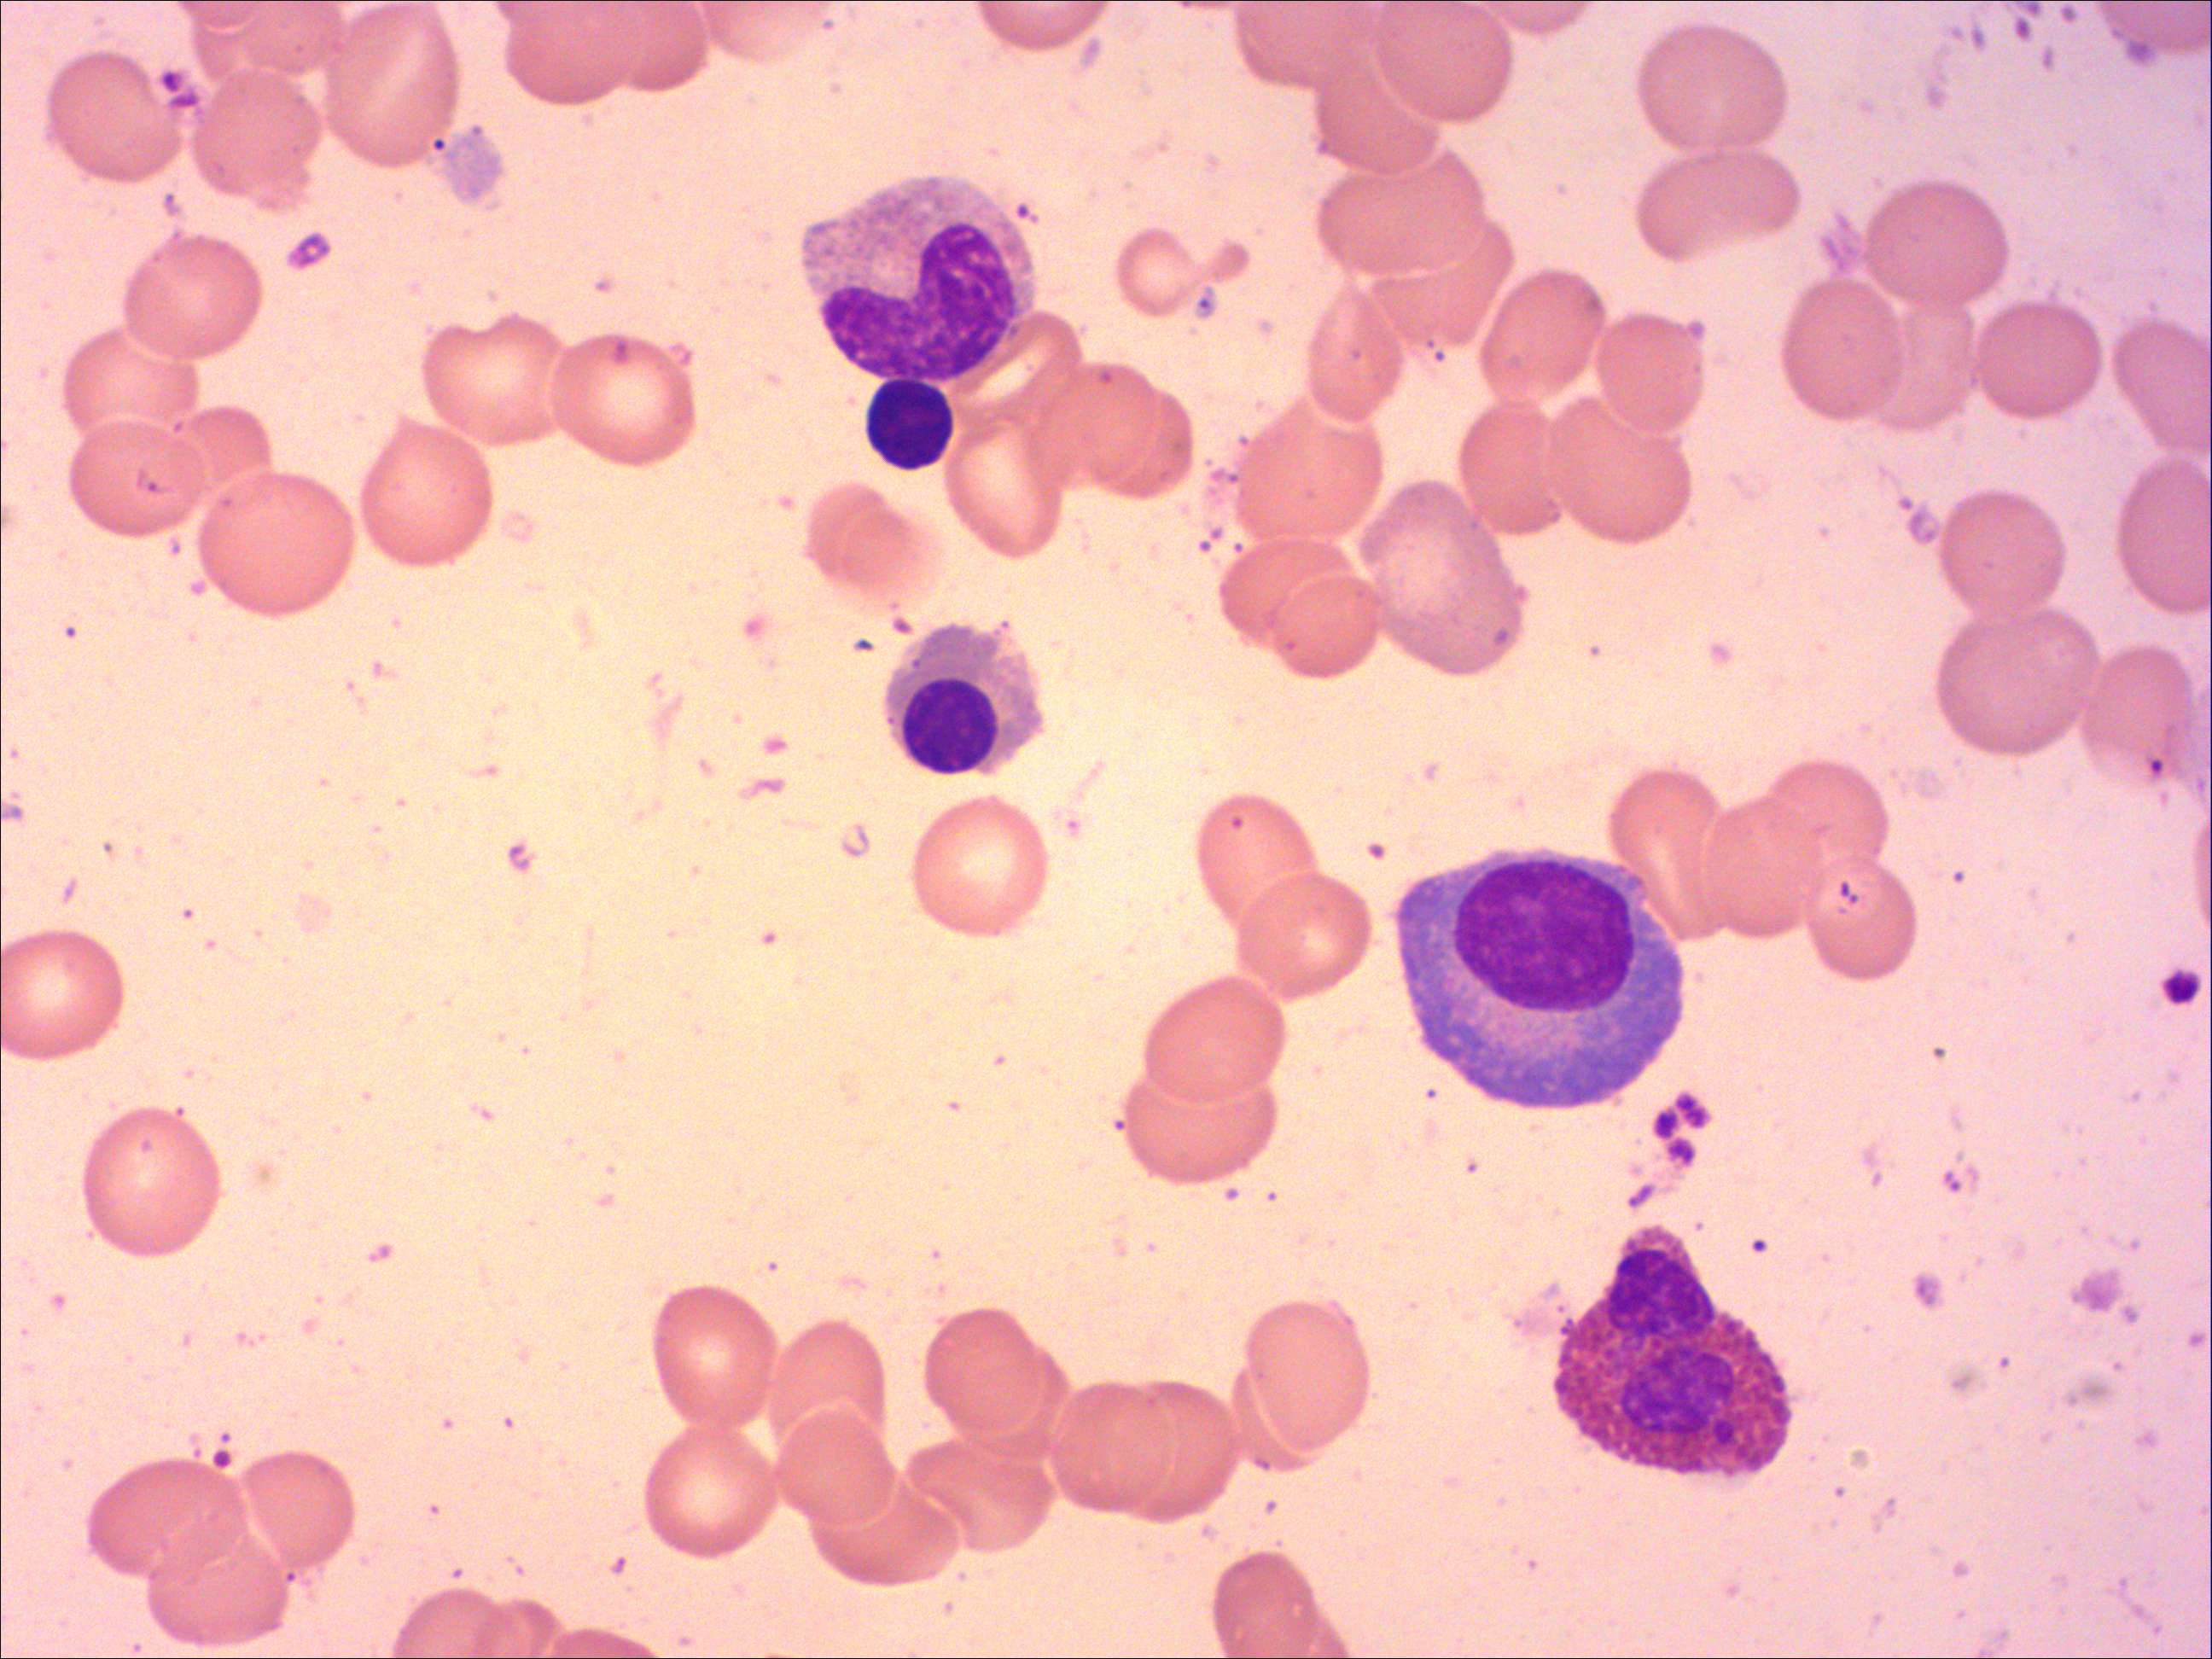24: (881, 619, 1047, 781)
4: (799, 169, 1042, 382)
51: (1386, 843, 1688, 1115)
E4: (1548, 1222, 1797, 1481)
x: (859, 378, 965, 476)
